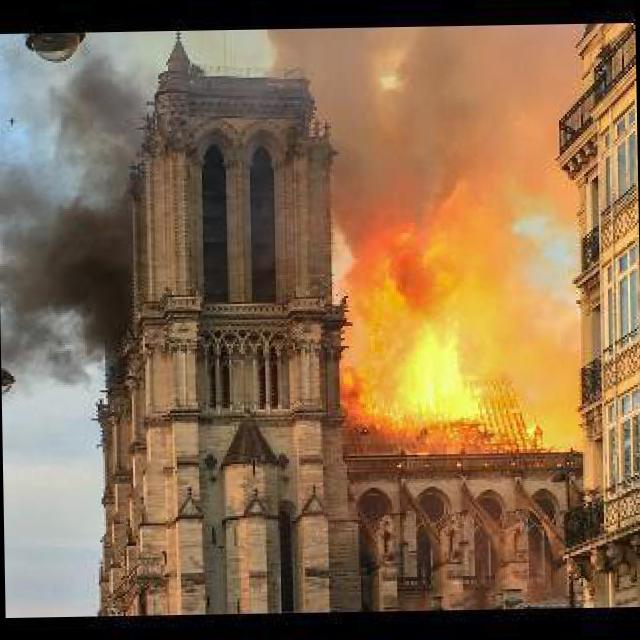Fire: (334, 212, 570, 464)
Smoke: (267, 19, 568, 214), (0, 61, 165, 376)
